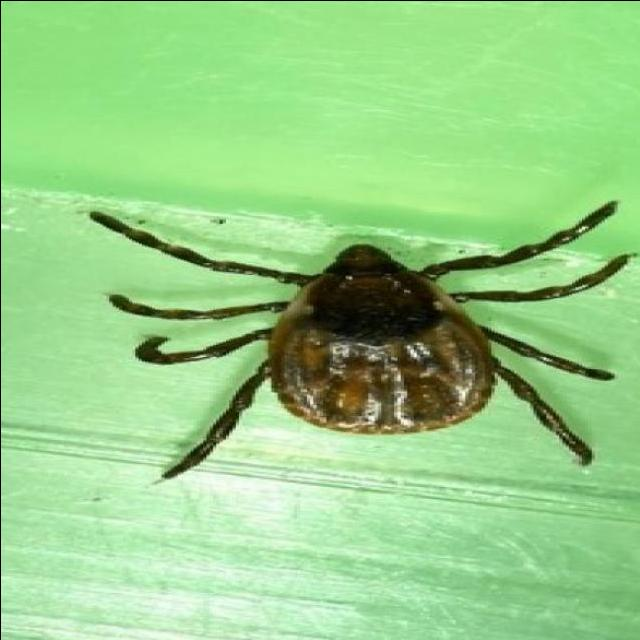Rhipicephalus Sanguineus-F: (86, 199, 636, 478)
